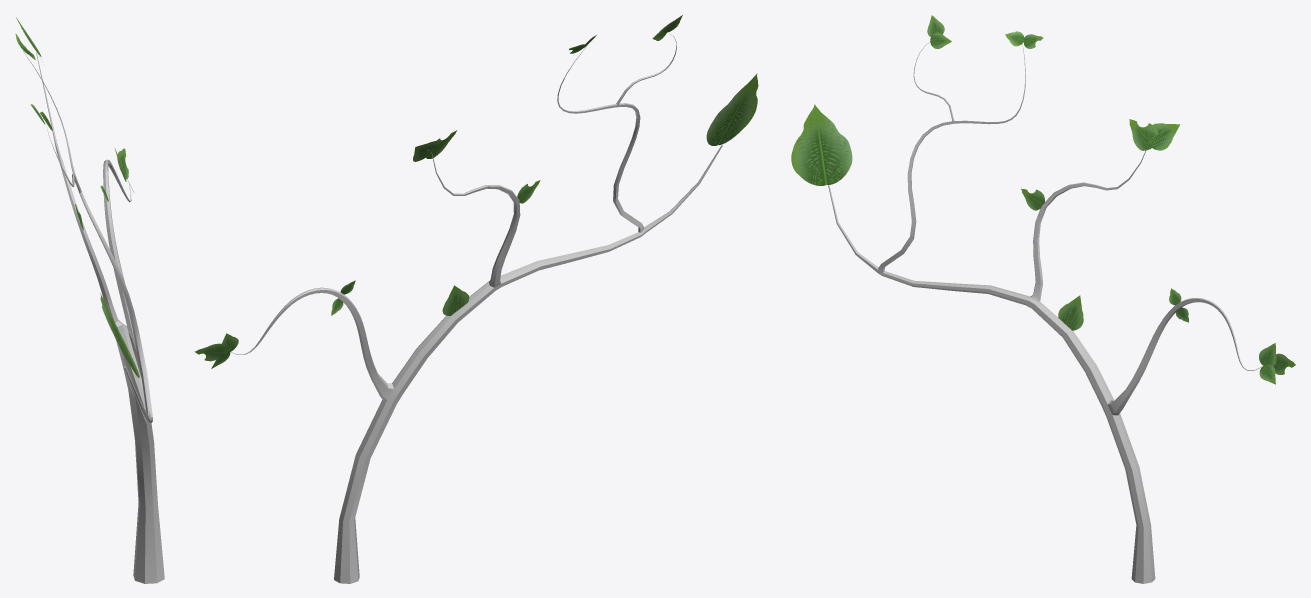
Rendered from plante_grimpante2.fbx.
The picture shows the model from 3 angles, left to right: view 1: azimuth 30°, elevation 25°; view 2: azimuth 150°, elevation 25°; view 3: azimuth 270°, elevation 25°; orthographic projection. The views are drawn at different scales.
Visible parts, largest first — view 1: plante_grimpante1, petales44; view 2: plante_grimpante1, petales44; view 3: plante_grimpante1, petales44.
Boxes of the visible parts, <box> form: plante_grimpante1: <box>23,51,164,583</box>; petales44: <box>100,293,139,377</box>; plante_grimpante1: <box>231,33,722,583</box>; petales44: <box>706,73,758,145</box>; plante_grimpante1: <box>828,42,1263,583</box>; petales44: <box>791,104,852,185</box>.
Size of the model in its own units: 322 by 559 by 544.
